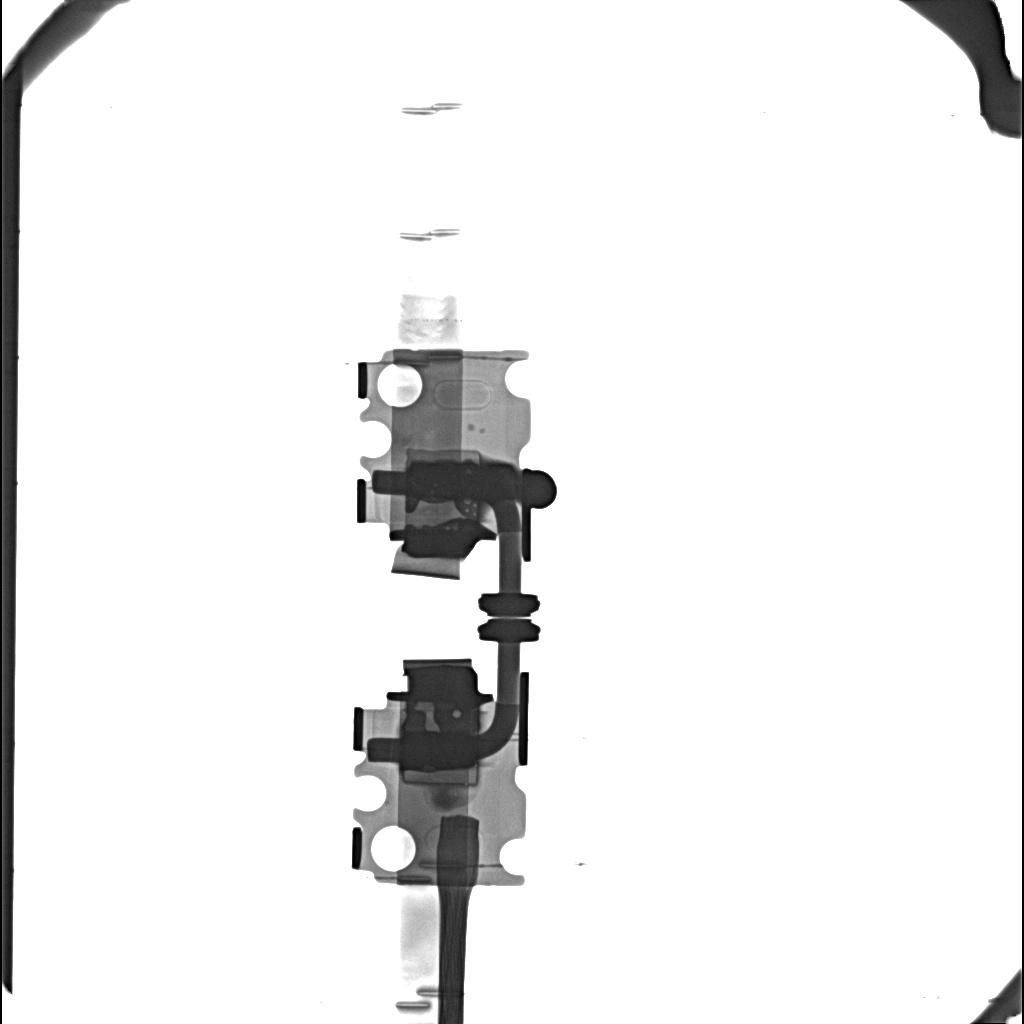气孔: (402, 763, 479, 787), (405, 448, 481, 464)
气泡: (410, 500, 463, 528), (413, 702, 440, 732), (452, 708, 462, 720)
水纹: (408, 462, 520, 502), (402, 733, 477, 771)
